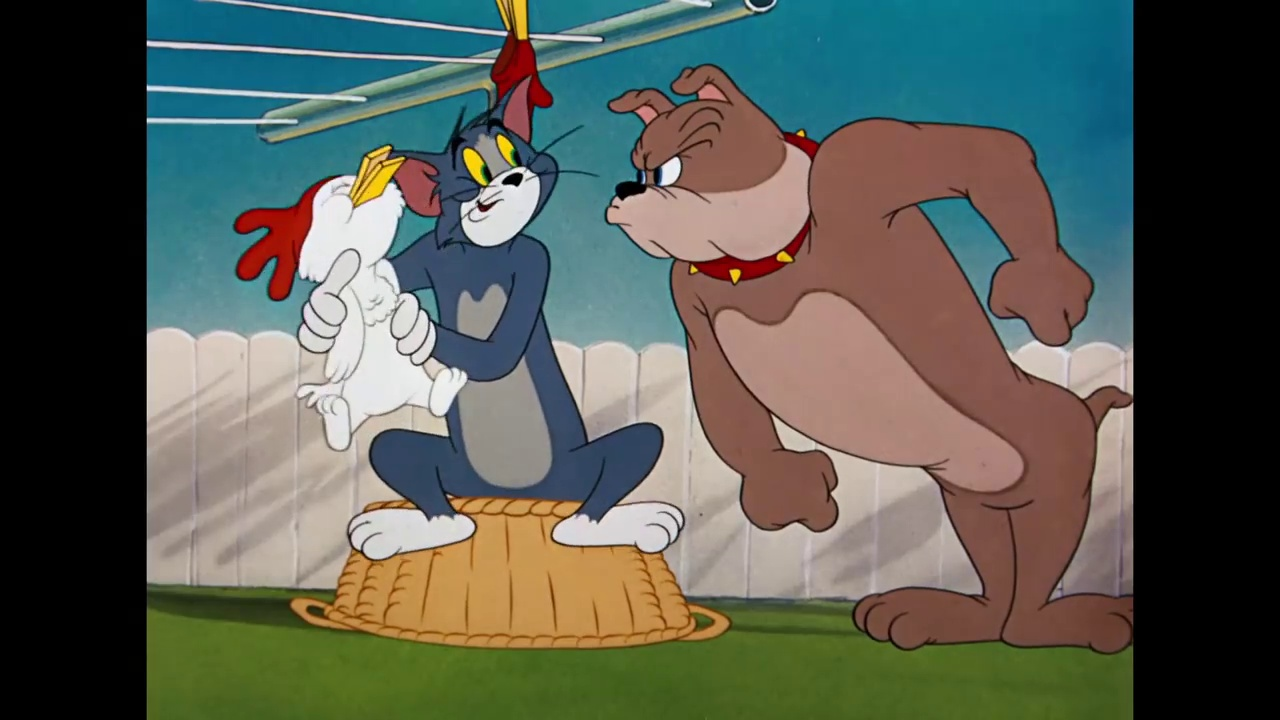spike: (602, 60, 829, 288)
tom: (383, 71, 589, 251)
